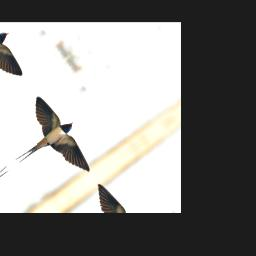Swallow: (0, 86, 103, 205)
